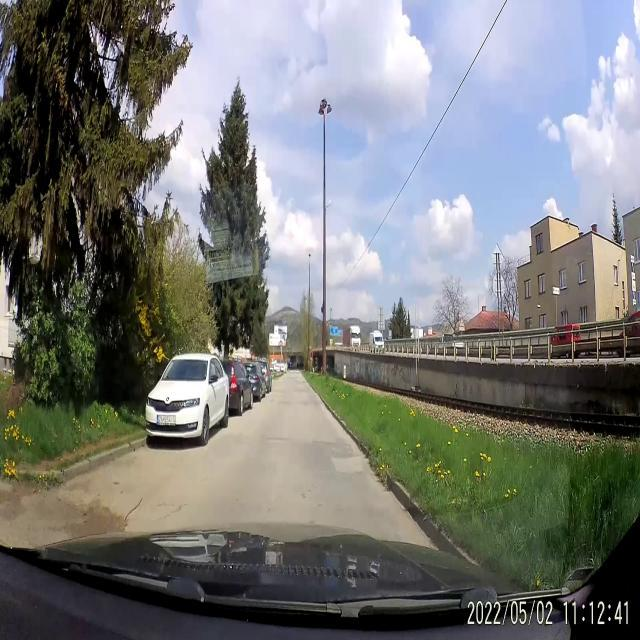Pothole: (68, 501, 142, 532)
